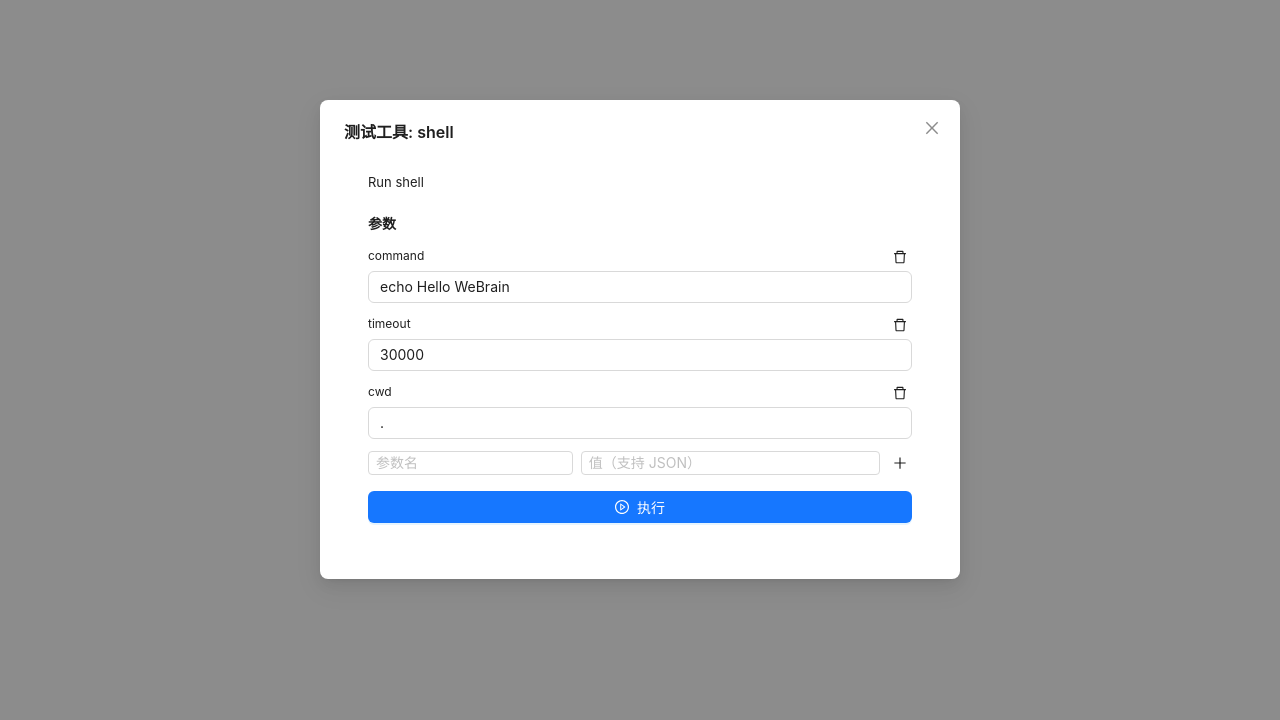
Test: ToolExecutorModal › executes tool with error response
The width and height of the screenshot is (1280, 720).
Click the button "执行" at (640, 507), box [368, 491, 912, 523]
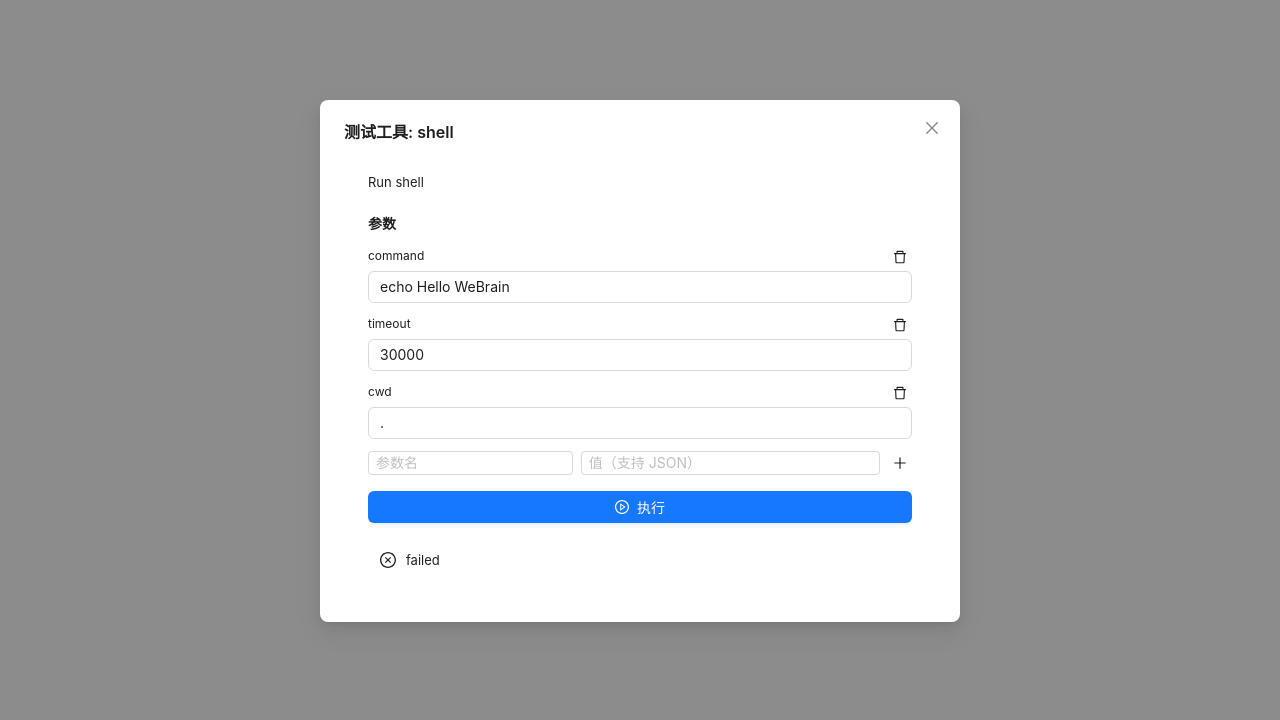
expect the text "failed" is shown: met, box [406, 551, 440, 570]
